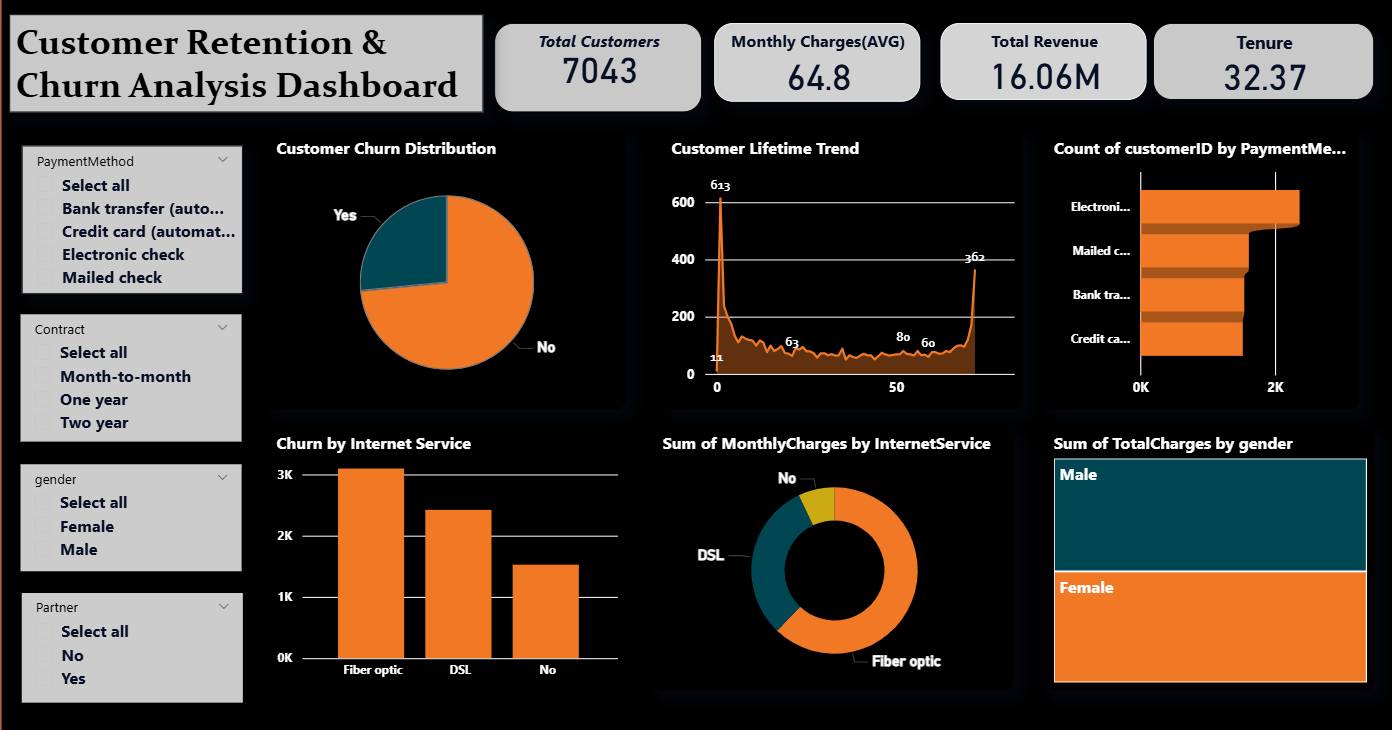

What the dashboard file says about the page in this screenshot:
{"tool":"powerbi","page":{"name":"Page 1","canvas":[1280,720],"ordinal":0},"visuals":[{"type":"shape","box":[10.7,0,1269.5,721.4],"z":0},{"type":"card","title":"Total Customers","fields":{"Values":["Count(WA_Fn-UseC_-Telco-Customer-Churn.customerID)"]},"box":[456.6,64.1,188.7,80.4],"z":1000},{"type":"card","title":"Monthly Charges(AVG)","fields":{"Values":["Avg(WA_Fn-UseC_-Telco-Customer-Churn.MonthlyCharges)"]},"box":[657,64.1,186.4,79.2],"z":2000},{"type":"card","title":"Total Revenue","fields":{"Values":["Sum(WA_Fn-UseC_-Telco-Customer-Churn.TotalCharges)"]},"box":[860.9,64.1,187.6,78],"z":3000},{"type":"card","title":"Tenure","fields":{"Values":["Avg(WA_Fn-UseC_-Telco-Customer-Churn.tenure)"]},"box":[1055.4,64.1,200.4,79.2],"z":4000},{"type":"pieChart","title":"Customer Churn Distribution","fields":{"Category":["WA_Fn-UseC_-Telco-Customer-Churn.Churn"],"Y":["CountNonNull(WA_Fn-UseC_-Telco-Customer-Churn.customerID)"]},"box":[252.3,170.9,324.4,251.2],"z":5000},{"type":"lineChart","title":"Customer Lifetime Trend","fields":{"Category":["WA_Fn-UseC_-Telco-Customer-Churn.tenure"],"Y":["CountNonNull(WA_Fn-UseC_-Telco-Customer-Churn.customerID)"]},"box":[609.9,170.6,326.4,251.2],"z":6000},{"type":"barChart","fields":{"Category":["WA_Fn-UseC_-Telco-Customer-Churn.PaymentMethod"],"Y":["CountNonNull(WA_Fn-UseC_-Telco-Customer-Churn.customerID)"]},"box":[955.8,170.9,284.9,251.2],"z":7000},{"type":"slicer","fields":{"Values":["WA_Fn-UseC_-Telco-Customer-Churn.PaymentMethod"]},"box":[30.9,182.7,200.2,134.3],"z":8000},{"type":"slicer","fields":{"Values":["WA_Fn-UseC_-Telco-Customer-Churn.gender"]},"box":[29.6,471.5,200.2,96.7],"z":9000},{"type":"actionButton","box":[0,0,100,40],"z":10000},{"type":"slicer","fields":{"Values":["WA_Fn-UseC_-Telco-Customer-Churn.Partner"]},"box":[30.9,588.4,200.2,99.4],"z":11000},{"type":"slicer","fields":{"Values":["WA_Fn-UseC_-Telco-Customer-Churn.Contract"]},"box":[29.6,335.9,200.2,115.5],"z":12000},{"type":"columnChart","title":"Churn by Internet Service","fields":{"Category":["WA_Fn-UseC_-Telco-Customer-Churn.InternetService"],"Y":["CountNonNull(WA_Fn-UseC_-Telco-Customer-Churn.Churn)"]},"box":[252.3,437.2,324.4,239.5],"z":13000},{"type":"donutChart","fields":{"Category":["WA_Fn-UseC_-Telco-Customer-Churn.InternetService"],"Y":["Sum(WA_Fn-UseC_-Telco-Customer-Churn.MonthlyCharges)"]},"box":[601.2,437.2,326.7,238.4],"z":14000},{"type":"treemap","fields":{"Values":["Sum(WA_Fn-UseC_-Telco-Customer-Churn.TotalCharges)"],"Details":["WA_Fn-UseC_-Telco-Customer-Churn.gender"]},"box":[955.8,437.2,298.8,238.4],"z":15000},{"type":"textbox","box":[18.8,64.5,428.5,88.7],"z":16000}]}

Visuals, with their boxes on the page's 1280x720 design canvas (x1, y1, x2, y2). These are canvas units, not pixel positions in the 1392x730 screenshot, which may show the page scaled, cropped or inside an application window:
shape: detection(11, 0, 1280, 721)
"Total Customers" card: detection(457, 64, 645, 144)
"Monthly Charges(AVG)" card: detection(657, 64, 843, 143)
"Total Revenue" card: detection(861, 64, 1048, 142)
"Tenure" card: detection(1055, 64, 1256, 143)
"Customer Churn Distribution" pieChart: detection(252, 171, 577, 422)
"Customer Lifetime Trend" lineChart: detection(610, 171, 936, 422)
barChart - WA_Fn-UseC_-Telco-Customer-Churn.PaymentMethod x CountNonNull(WA_Fn-UseC_-Telco-Customer-Churn.customerID): detection(956, 171, 1241, 422)
slicer - WA_Fn-UseC_-Telco-Customer-Churn.PaymentMethod: detection(31, 183, 231, 317)
slicer - WA_Fn-UseC_-Telco-Customer-Churn.gender: detection(30, 472, 230, 568)
actionButton: detection(0, 0, 100, 40)
slicer - WA_Fn-UseC_-Telco-Customer-Churn.Partner: detection(31, 588, 231, 688)
slicer - WA_Fn-UseC_-Telco-Customer-Churn.Contract: detection(30, 336, 230, 451)
"Churn by Internet Service" columnChart: detection(252, 437, 577, 677)
donutChart - WA_Fn-UseC_-Telco-Customer-Churn.InternetService x Sum(WA_Fn-UseC_-Telco-Customer-Churn.MonthlyCharges): detection(601, 437, 928, 676)
treemap - Sum(WA_Fn-UseC_-Telco-Customer-Churn.TotalCharges) x WA_Fn-UseC_-Telco-Customer-Churn.gender: detection(956, 437, 1255, 676)
textbox: detection(19, 64, 447, 153)
